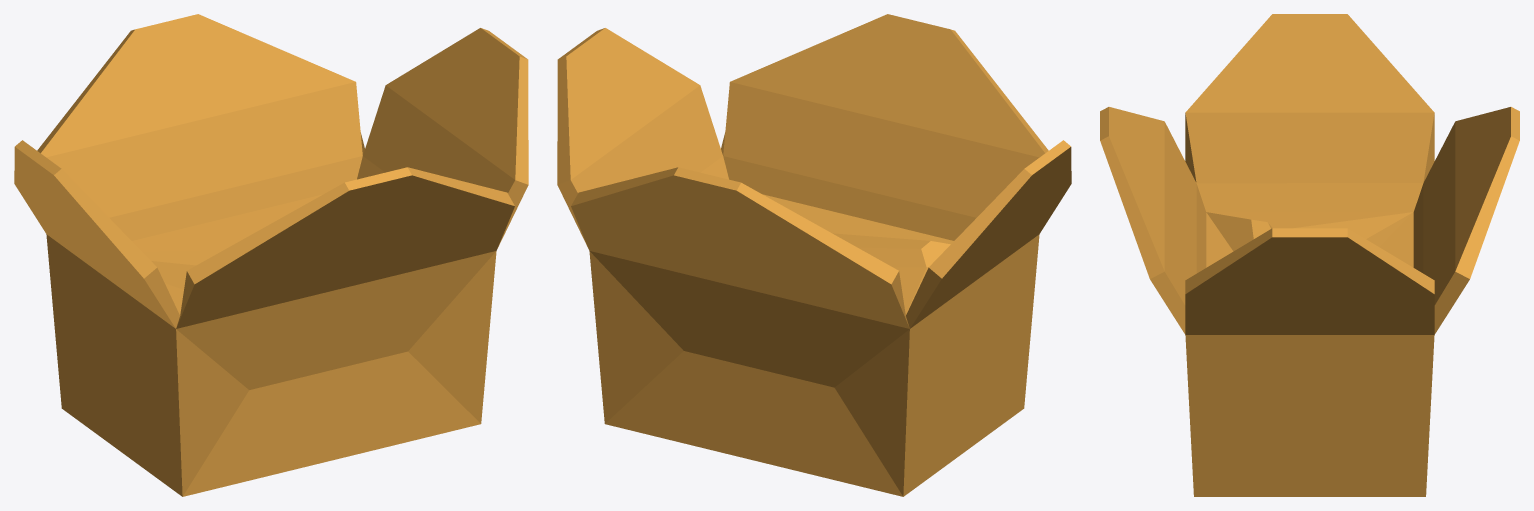
Rendered from food-container-take.glb.
3 views of the same model, side by side, from view 1: azimuth 30°, elevation 25°; view 2: azimuth 150°, elevation 25°; view 3: azimuth 270°, elevation 25° (orthographic). The views are drawn at different scales.
Visible parts, largest first — view 1: container-take; view 2: container-take; view 3: container-take.
Boxes of the visible parts, bbox=[...] form: container-take: bbox=[14, 14, 528, 496]; container-take: bbox=[557, 14, 1071, 496]; container-take: bbox=[1100, 14, 1519, 496].
Bounding box in the file's own units: 0.2775 × 0.178 × 0.2214.
